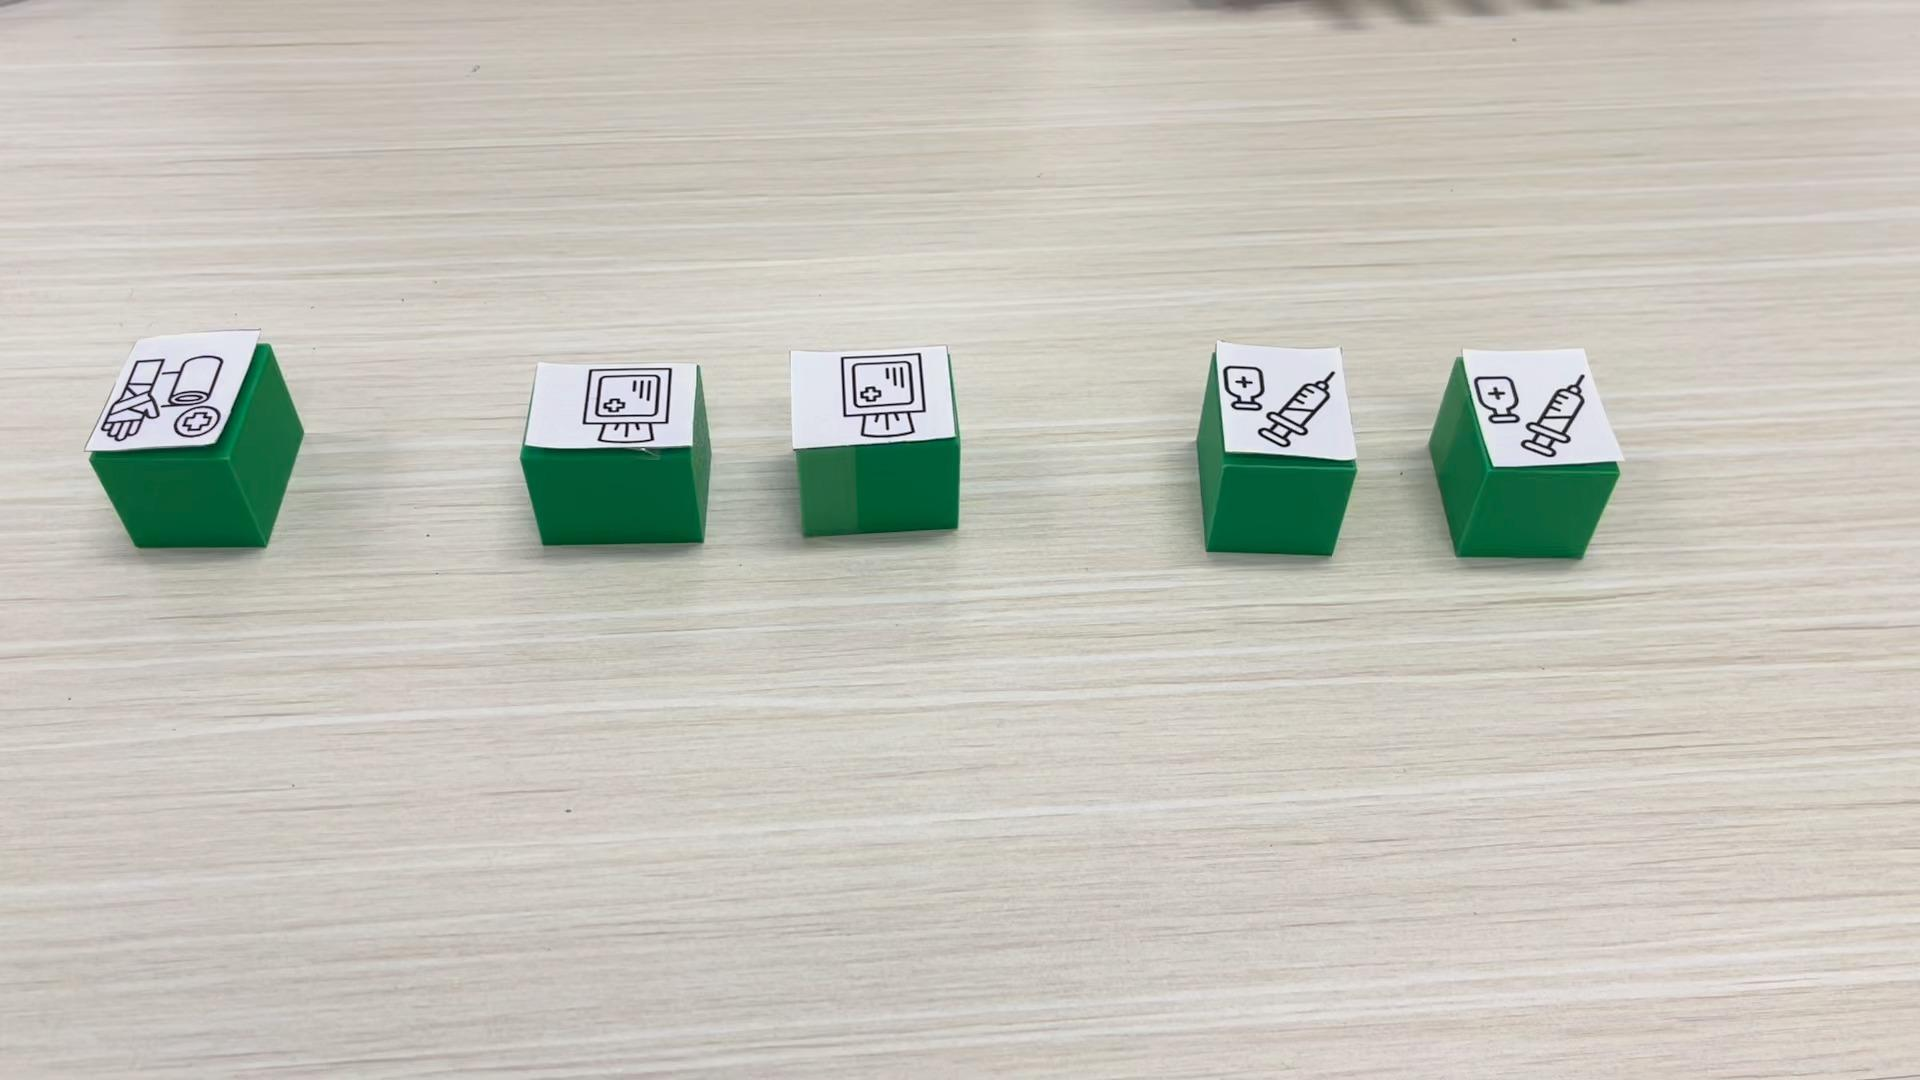Bandages: (84, 328, 302, 549)
Gauze: (520, 359, 709, 545), (790, 343, 960, 537)
antiseptic cream: (1427, 345, 1625, 559), (1193, 338, 1357, 556)
